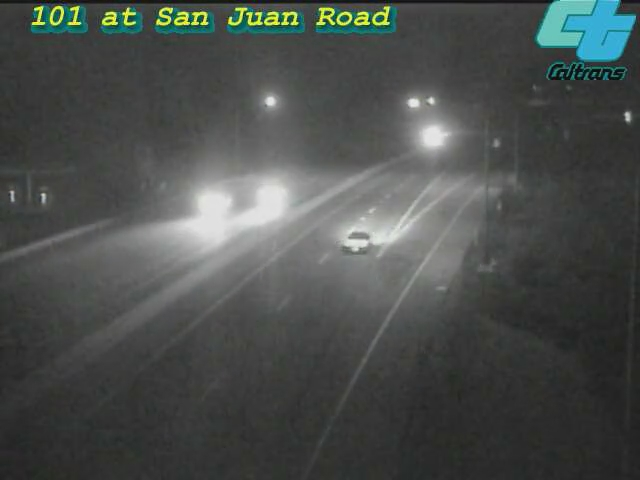vehicle: (170, 166, 250, 246), (227, 155, 307, 235), (317, 203, 397, 283), (406, 113, 456, 163)
